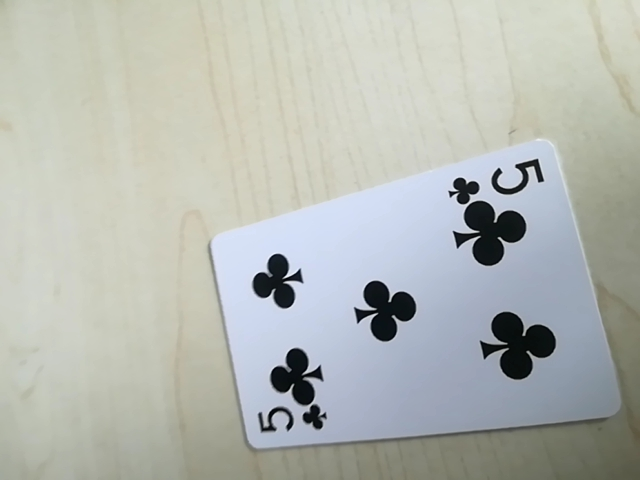mh 5: (445, 156, 552, 202), (252, 399, 331, 441)
